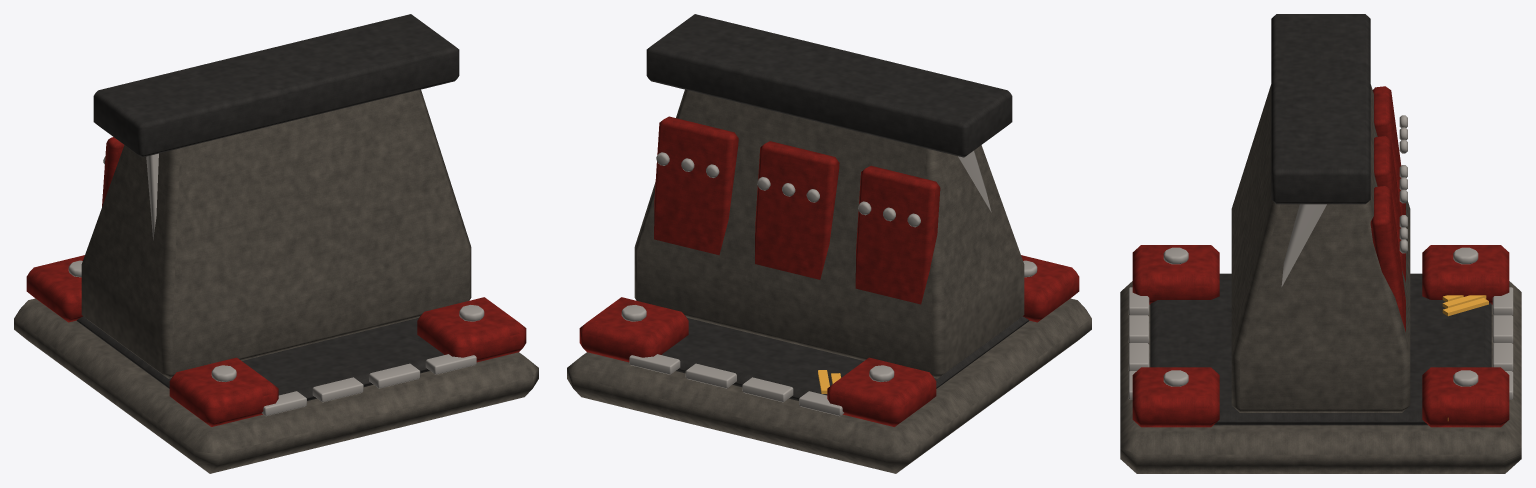
The model's file is kharn_mur_de_beton.gltf.
3 renders of one model, left to right at view 1: azimuth 30°, elevation 25°; view 2: azimuth 150°, elevation 25°; view 3: azimuth 270°, elevation 25°, orthographic.
Parts seen in each view (by area): view 1: Root.006_Geometry; view 2: Root.006_Geometry; view 3: Root.006_Geometry.
Boxes of the visible parts, <box> form: Root.006_Geometry: <box>14,14,538,473</box>; Root.006_Geometry: <box>567,14,1091,473</box>; Root.006_Geometry: <box>1120,14,1521,473</box>.
Size of the model in its own units: 1.94 by 1.63 by 1.94.
5 materials, 3 textured.
